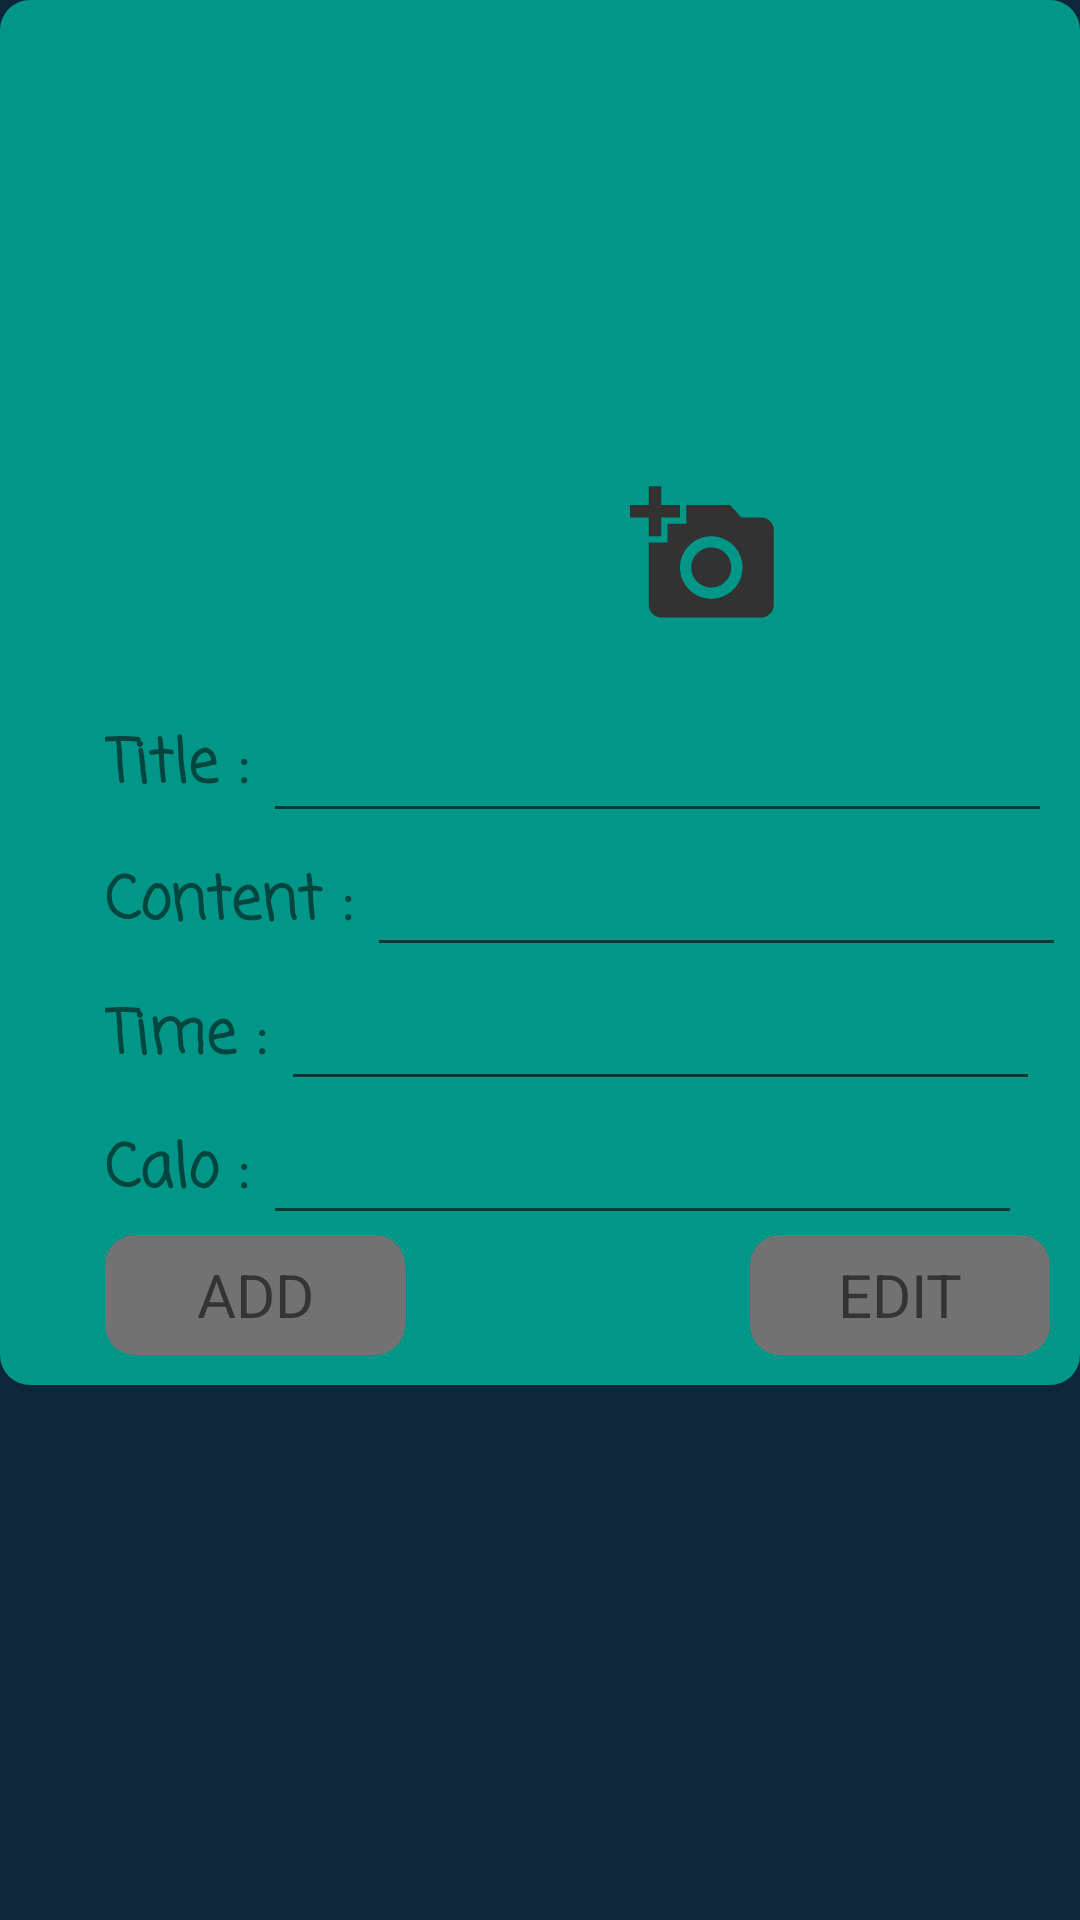

Named icons in this screenshot (1080 × 1920) and their bounding boxes, [x1,y1,x2,y2]:
add photo: [630,486,774,618]
